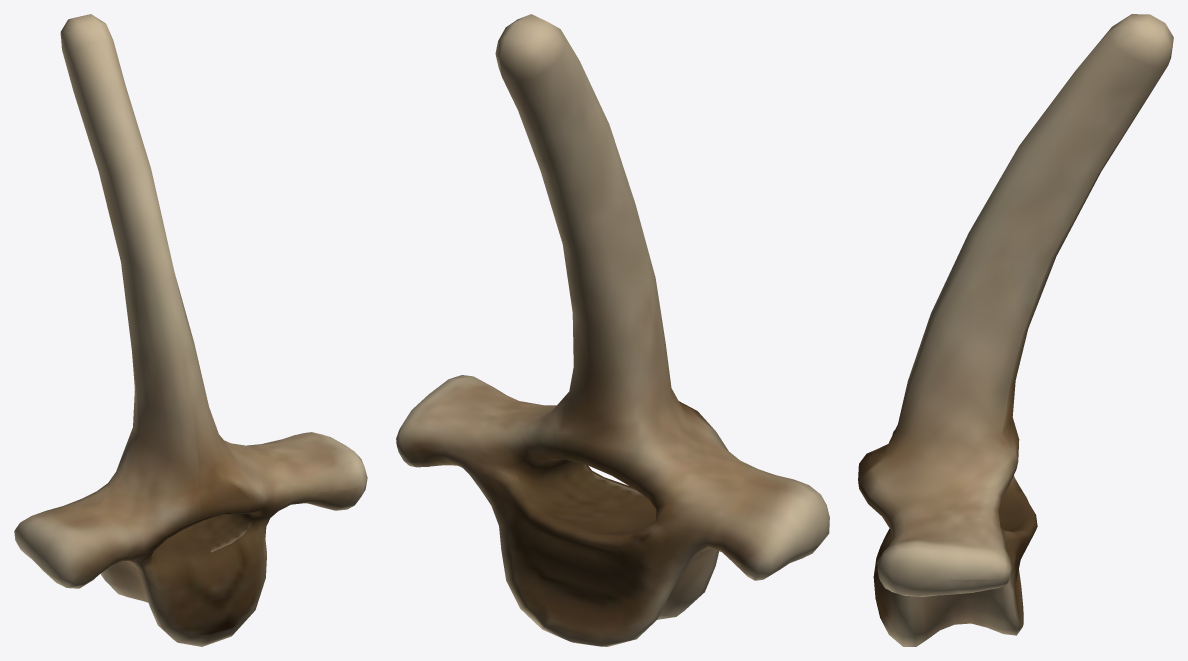
File: Thoracic_Vertebrae2.glb
3 views of the same model, side by side, from view 1: azimuth 30°, elevation 25°; view 2: azimuth 150°, elevation 25°; view 3: azimuth 270°, elevation 25° (orthographic). The views are drawn at different scales.
Visible parts, largest first — view 1: Horse_low:SelSet_41Merged_L_Frt_Sesamoid_Bones_2; view 2: Horse_low:SelSet_41Merged_L_Frt_Sesamoid_Bones_2; view 3: Horse_low:SelSet_41Merged_L_Frt_Sesamoid_Bones_2.
Boxes of the visible parts, box(x1,y1,x2,y2) form: Horse_low:SelSet_41Merged_L_Frt_Sesamoid_Bones_2: box(14, 14, 367, 646); Horse_low:SelSet_41Merged_L_Frt_Sesamoid_Bones_2: box(396, 14, 829, 646); Horse_low:SelSet_41Merged_L_Frt_Sesamoid_Bones_2: box(858, 14, 1173, 646).
Size of the model in its own units: 0.1475 by 0.2478 by 0.1158.
Materials: 1 (1 with a texture image).
